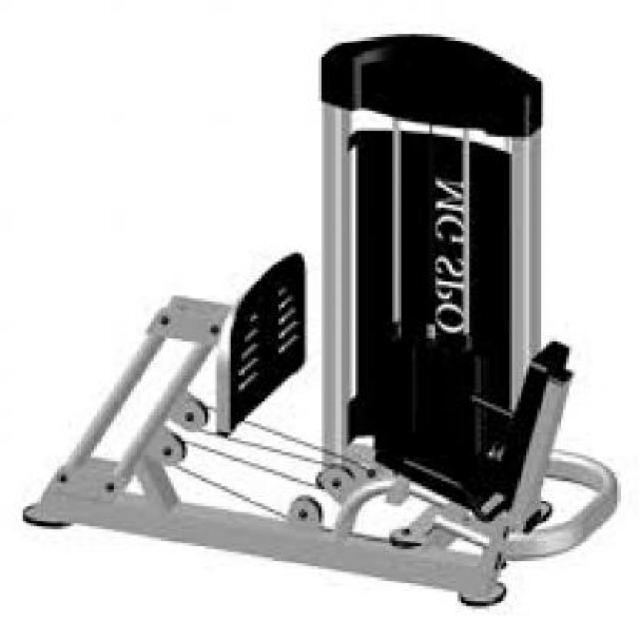leg press: (20, 25, 628, 617)
